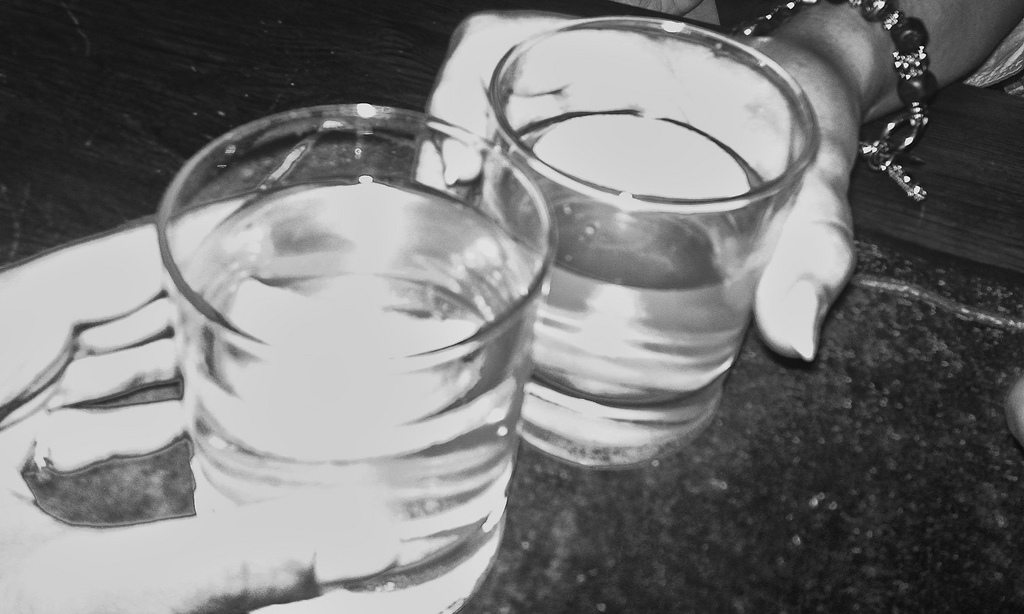glass of water: (181, 120, 475, 607), (509, 40, 722, 471)
